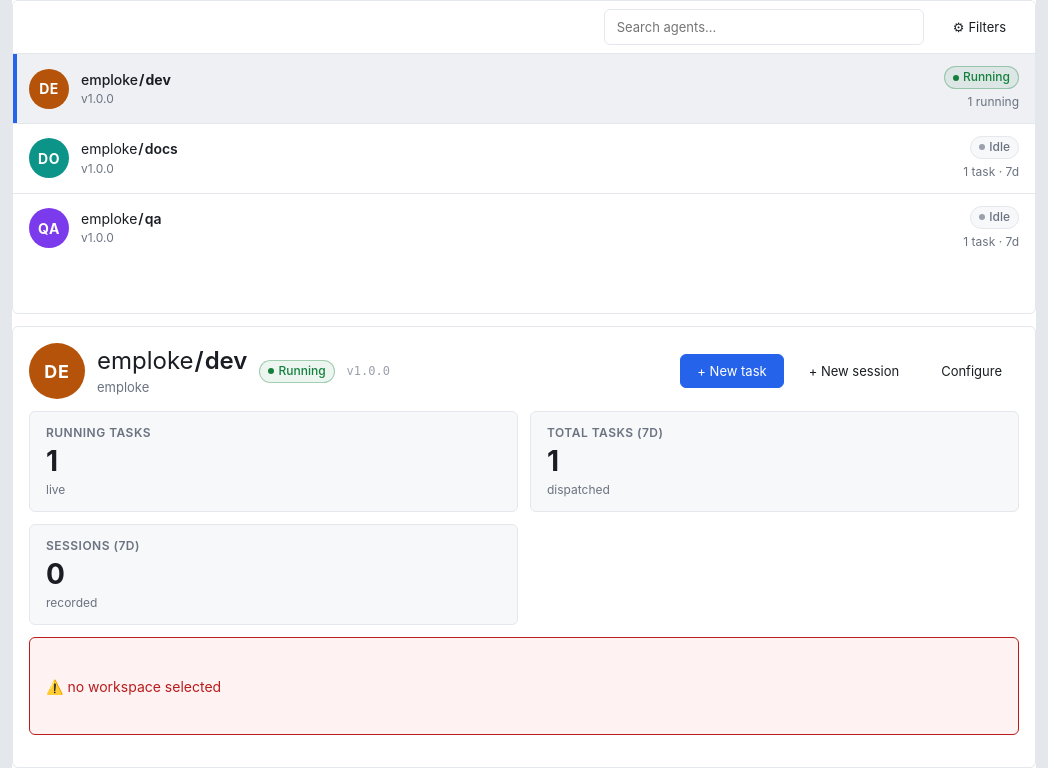
Test: AgentsListPage Block H polish (§4.2) › filter menu hides agents that don't match (?filter=active|idle)
Expected: the 1st text "dev" is shown, [146,71,171,89]
Expected: the text "qa" is shown, [145,210,161,228]
// v3 — the pill bar was replaced by a popover. Open it first.
Click the button with test id "agents-filter-menu-trigger": (979, 27) [936,10,1023,44]
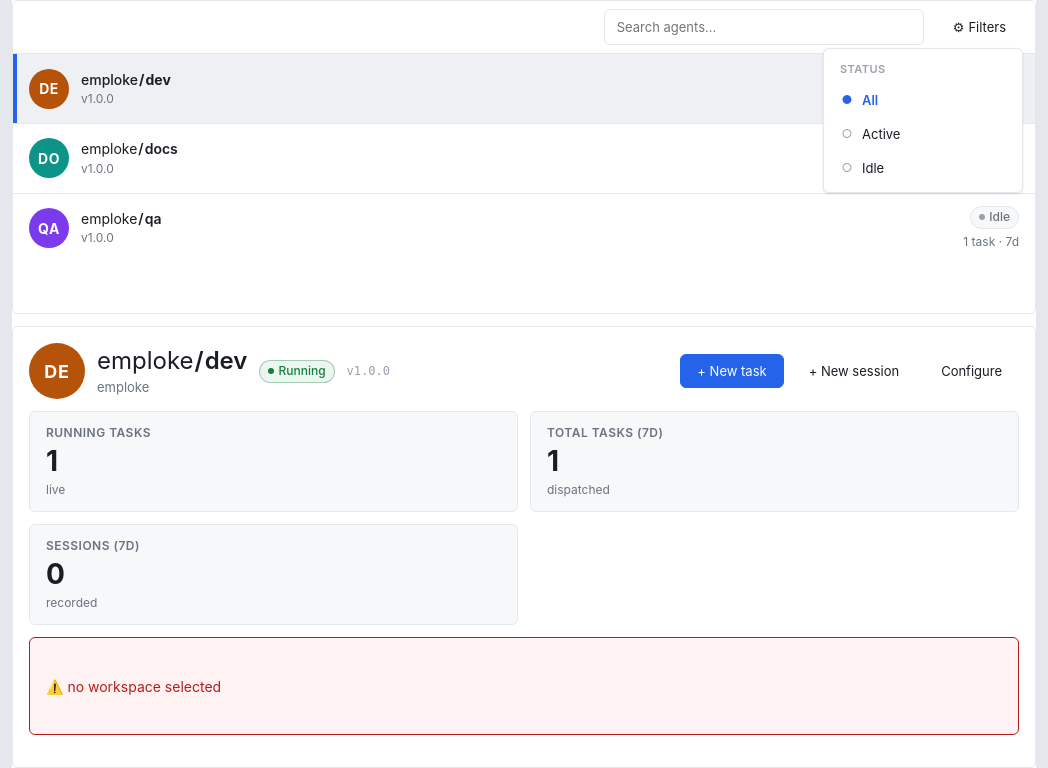
// Switch to Active — only dev should remain.
Click the menu item with test id "agents-list-filter-active": (923, 134) [832,118,1014,150]
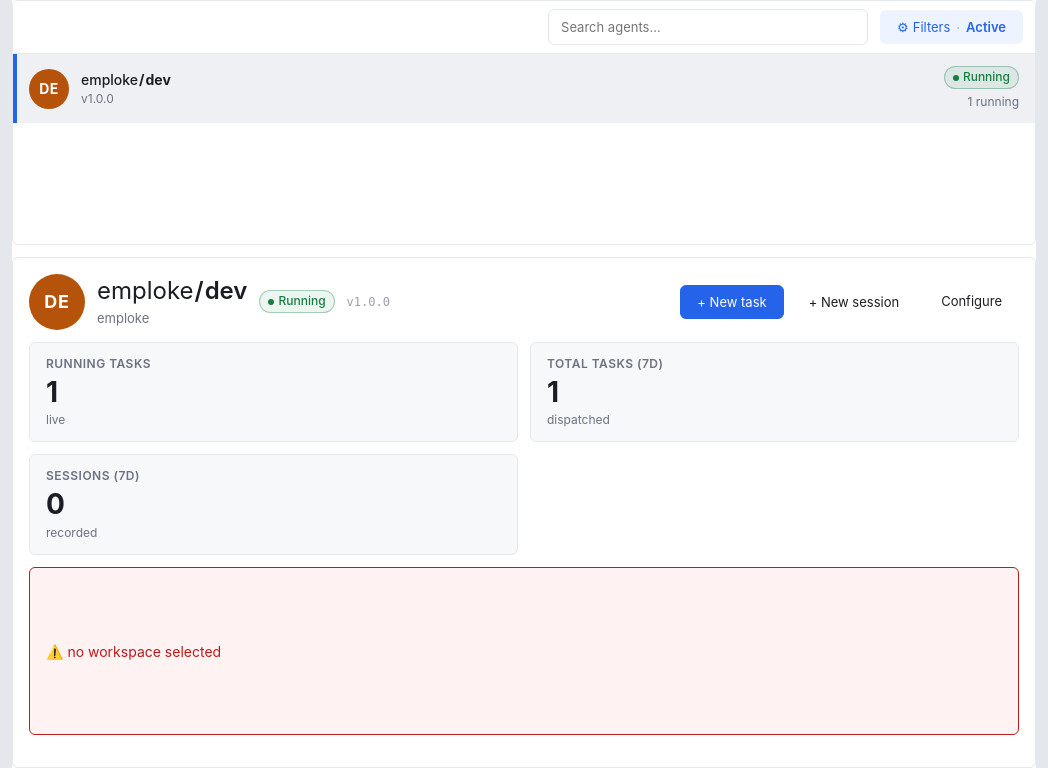
Expected: the 1st text "dev" is shown, [146,71,171,89]
Expected: no buttons "QA" are shown
Expected: no buttons "docs" are shown
// Switch to Idle — dev disappears, qa+docs reappear.
Click the button with test id "agents-filter-menu-trigger": (952, 27) [880,10,1023,44]
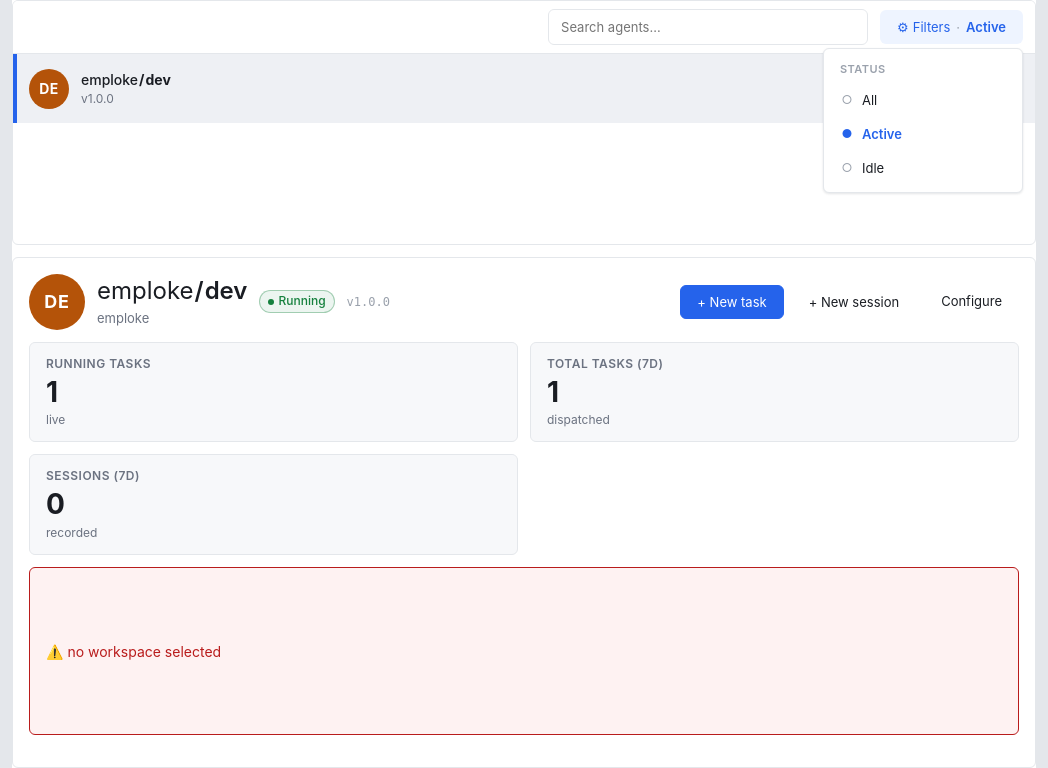
Click the menu item with test id "agents-list-filter-idle": (923, 168) [832,152,1014,184]
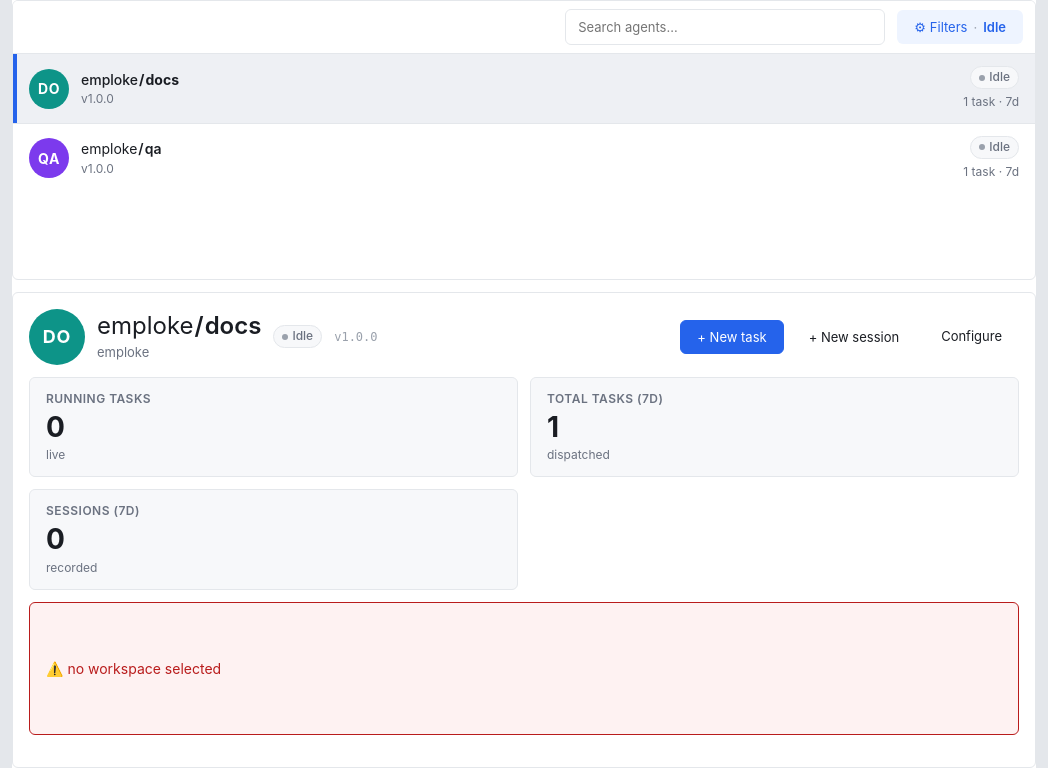
Expected: no buttons "dev" are shown
Expected: the text "qa" is shown, [145,140,161,159]
Expected: the 1st text "docs" is shown, [146,71,179,89]
